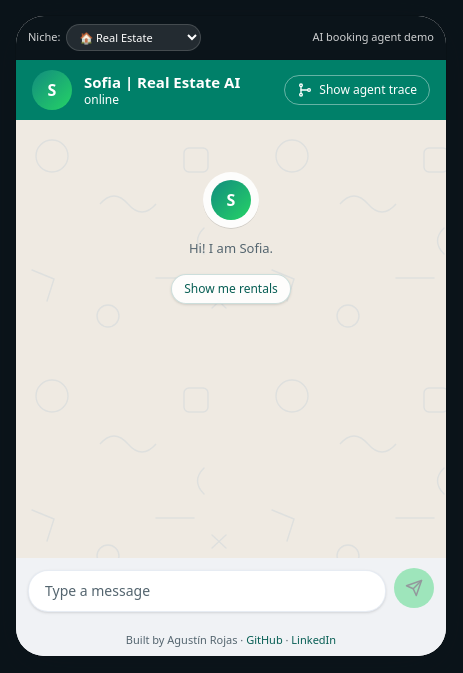
Scenario: chat flow › on a session_limit 429 shows the banner and Restart demo starts a fresh session
expect the heading "Sofia | Real Estate AI" is shown: met, box [84,72,240,92]
expect the text "Hi! I am Sofia." is shown: met, box [189,240,273,258]
Type "One more" into the text box labelled "message". click: (207, 590)
box: [45,576,369,604]
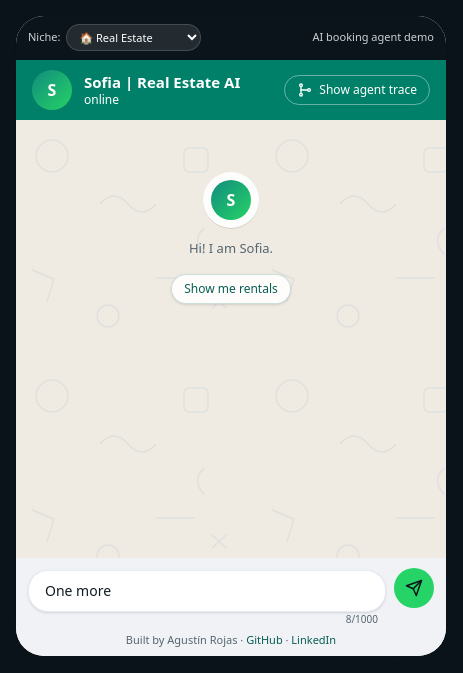
Press Enter in the text box named "message", box [45,576,369,604]
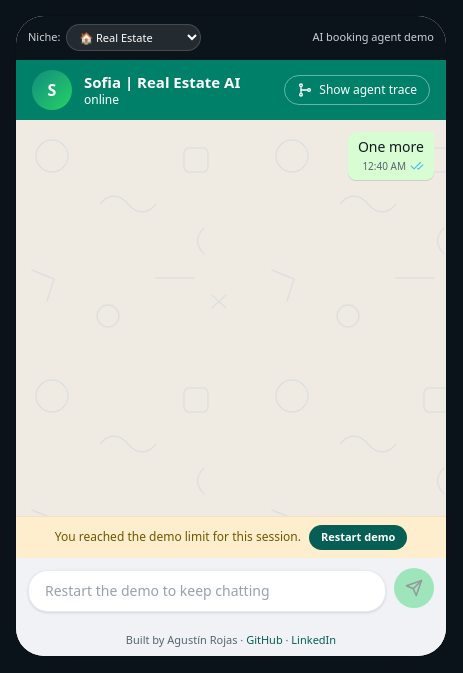
expect the text "You reached the demo limit for this session." is shown: met, box [55,528,301,546]
expect the text box named "Message" is disabled: met, box [45,576,369,604]
Click the button "Restart demo". click: (358, 537)
box: [309,525,407,550]
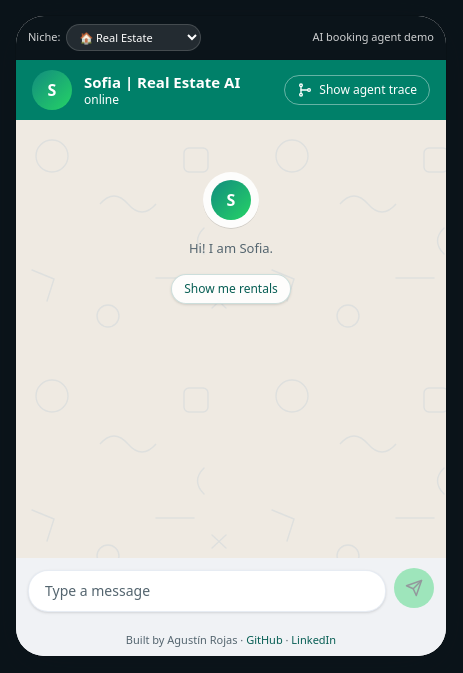
expect the message with test id "banner" is gone: met
expect the text "Hi! I am Sofia." is shown: met, box [189,240,273,258]
expect the text "One more" is gone: met
